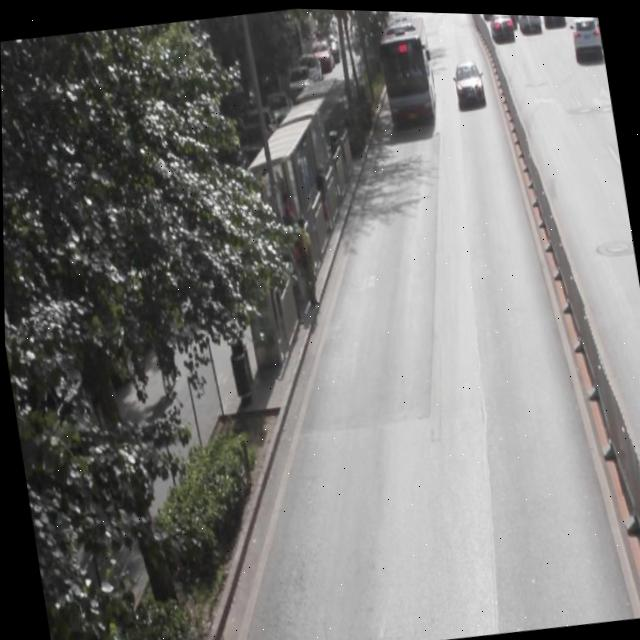car: (451, 55, 485, 106)
van: (373, 9, 437, 124)
